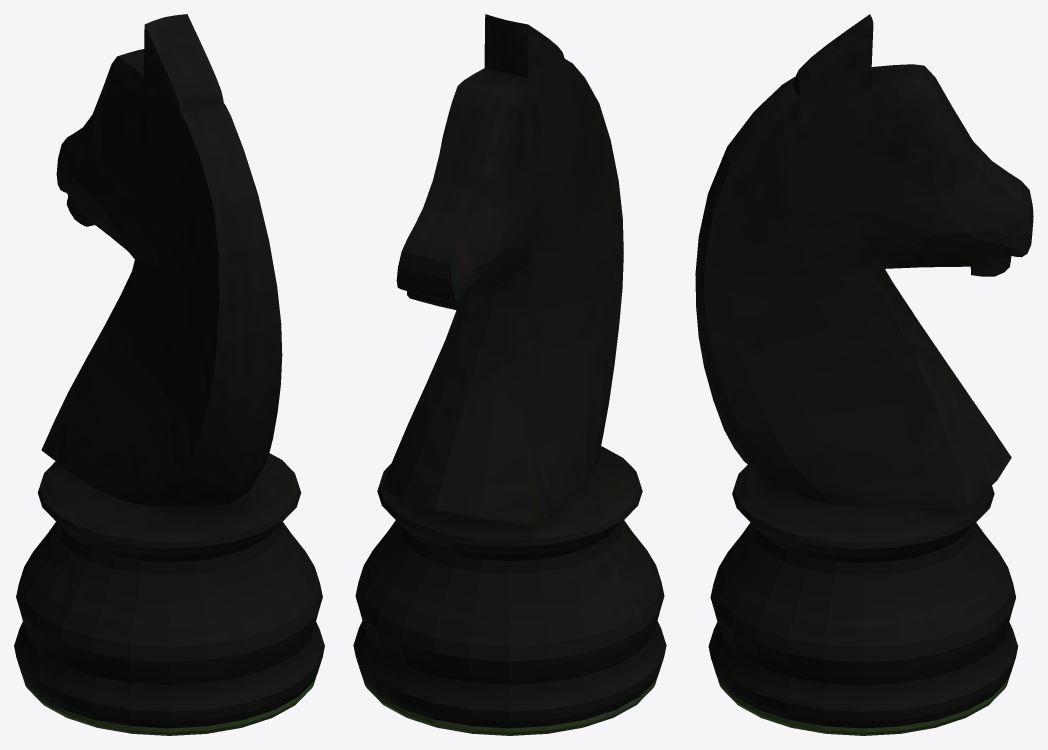
The model's file is knight.glb.
3 views of the same model, side by side, from view 1: azimuth 30°, elevation 25°; view 2: azimuth 150°, elevation 25°; view 3: azimuth 270°, elevation 25° (orthographic).
Parts seen in each view (by area): view 1: knight_a.obj; view 2: knight_a.obj; view 3: knight_a.obj.
Part boxes in pixels (x1=…): knight_a.obj: x1=14, y1=14, x2=324, y2=735; knight_a.obj: x1=353, y1=14, x2=666, y2=735; knight_a.obj: x1=695, y1=14, x2=1033, y2=735.
Size of the model in its own units: 0.4311 by 1 by 0.4706.
1 material, 1 textured.
